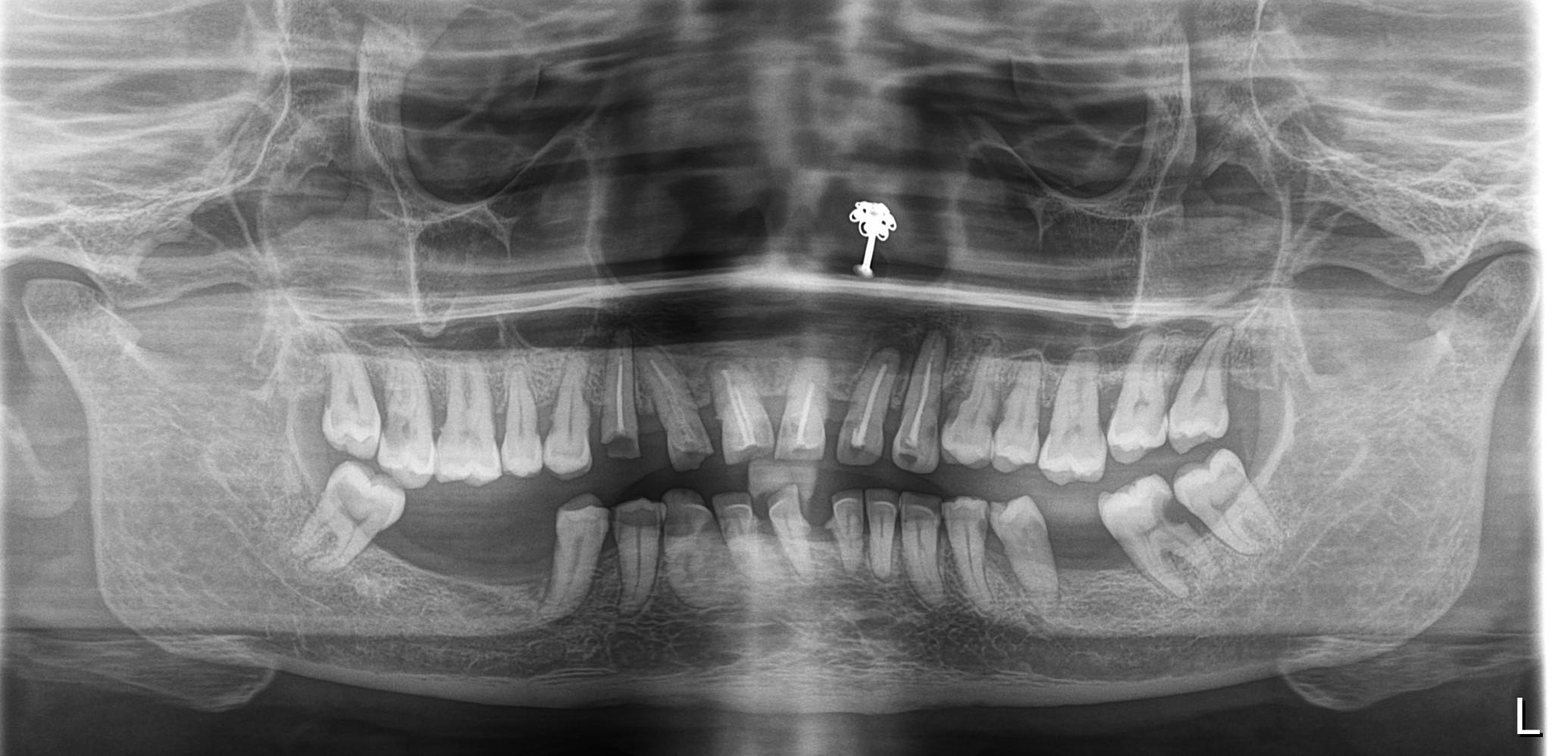Dental Caries: (1114, 515, 1204, 593), (380, 421, 443, 477)
Impacted Third Molar: (310, 465, 390, 566)
Missing Tooth: (458, 504, 549, 605), (1038, 508, 1112, 596), (1233, 330, 1283, 448), (393, 502, 450, 604)
Periodontal Pocket: (1110, 337, 1172, 461), (1169, 324, 1228, 449), (1053, 344, 1104, 469)
